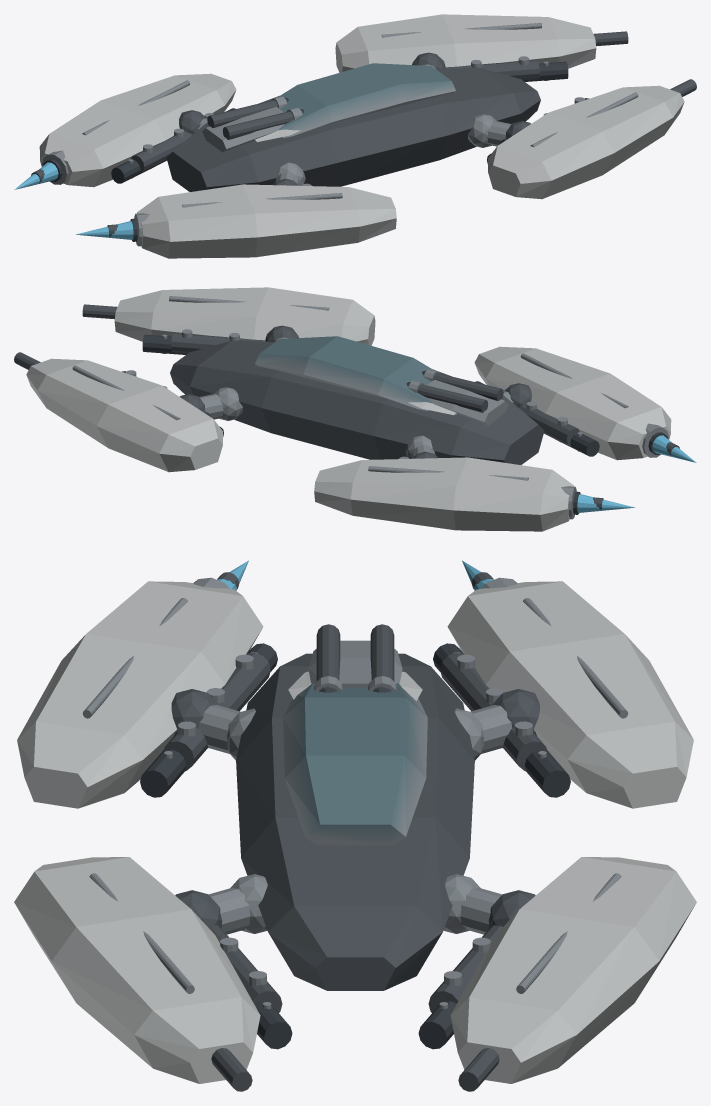
Rendered from x5_white_compact_flight.glb.
3 renders of one model, top to bottom at view 1: azimuth 30°, elevation 25°; view 2: azimuth 150°, elevation 25°; view 3: azimuth 270°, elevation 25°, orthographic. The views are drawn at different scales.
Parts seen in each view (by area): view 1: pod_armor_10, center_hull_0, cabin_base_1, pod_mechanics_16, missile_body_3, pod_rail_11, launcher_saddle_2, outer_joint_9, inner_drive_rail_18, engine_flame_15, inner_joint_7, forward_gun_12 (+3 smaller); view 2: pod_armor_10, center_hull_0, cabin_base_1, pod_mechanics_16, missile_body_3, pod_rail_11, launcher_saddle_2, outer_joint_9, inner_drive_rail_18, engine_flame_15, inner_joint_7, forward_gun_12 (+3 smaller); view 3: pod_armor_10, center_hull_0, cabin_base_1, pod_mechanics_16, inner_drive_rail_18, mechanical_arms_8, outer_joint_9, inner_joint_7, pod_rail_11, missile_body_3, mechanical_crossbeam_17, forward_gun_12 (+1 smaller).
Part boxes in pixels (x1,y1,x2,y2): pod_armor_10: (39,14,684,258); center_hull_0: (166,67,540,191); cabin_base_1: (278,63,455,137); pod_mechanics_16: (131,60,589,173); missile_body_3: (207,98,302,139); pod_rail_11: (82,23,638,207); launcher_saddle_2: (202,106,284,152); outer_joint_9: (179,52,530,185); inner_drive_rail_18: (111,61,568,183); engine_flame_15: (14,162,133,239); inner_joint_7: (278,114,496,185); forward_gun_12: (31,31,696,236); pod_armor_10: (26,287,671,531); center_hull_0: (170,340,544,464); cabin_base_1: (255,336,432,410); pod_mechanics_16: (121,333,579,446); missile_body_3: (408,371,503,412); pod_rail_11: (72,296,628,480); launcher_saddle_2: (427,379,508,425); outer_joint_9: (180,325,531,458); inner_drive_rail_18: (142,334,599,456); engine_flame_15: (577,435,696,512); inner_joint_7: (214,387,432,458); forward_gun_12: (14,304,679,509); pod_armor_10: (14,581,696,1083); center_hull_0: (236,653,474,990); cabin_base_1: (283,683,427,845); pod_mechanics_16: (163,652,547,1012); inner_drive_rail_18: (140,643,570,1049); mechanical_arms_8: (198,705,512,934); outer_joint_9: (171,689,539,928); inner_joint_7: (226,708,484,933); pod_rail_11: (82,598,628,993); missile_body_3: (316,624,394,691); mechanical_crossbeam_17: (178,654,532,985); forward_gun_12: (211,572,499,1091).
Size of the model in its own units: 7.38 by 0.9 by 4.06.
